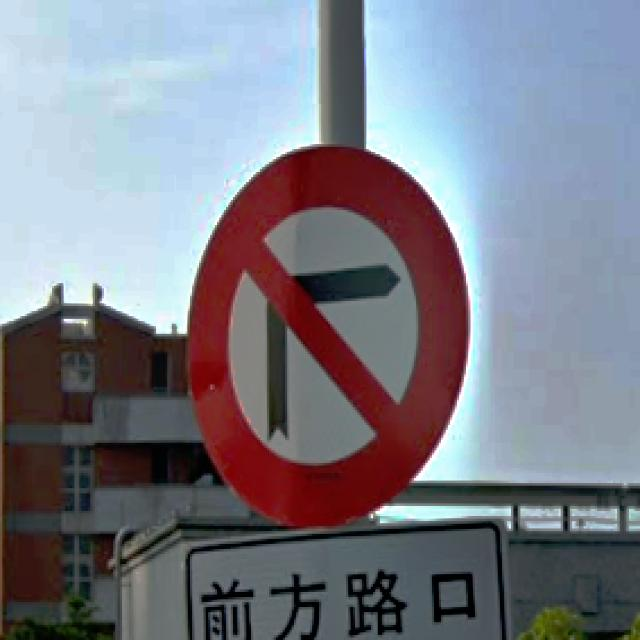noturnright: (181, 139, 473, 529)
